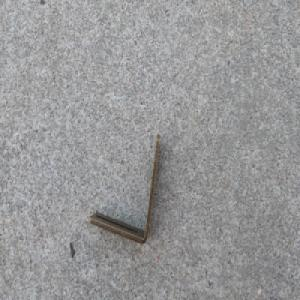MetalPart: (88, 132, 162, 245)
